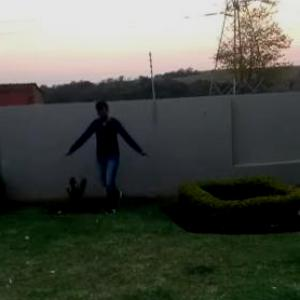land: (65, 100, 149, 218)
